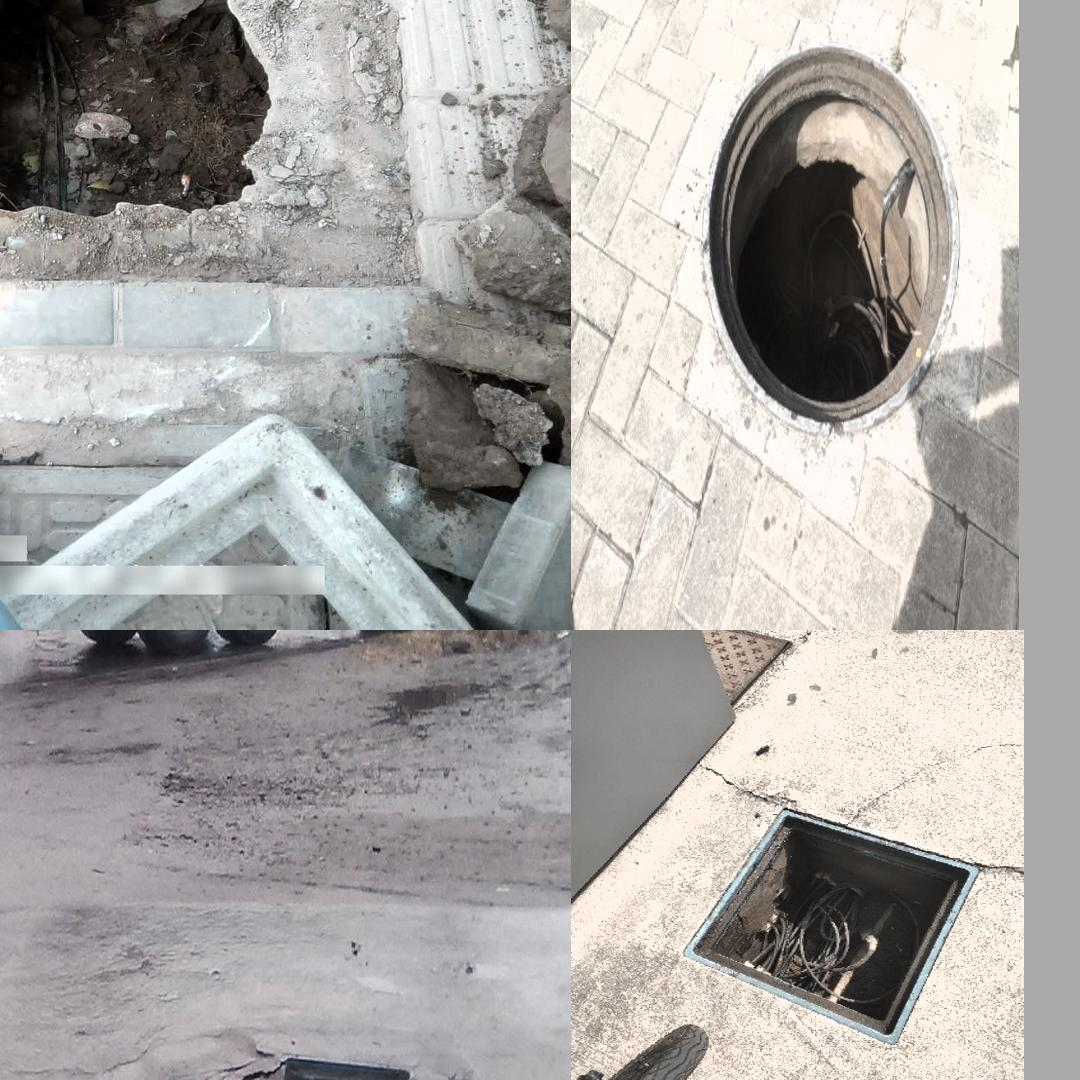lose: (0, 0, 427, 282), (701, 38, 963, 431), (683, 808, 981, 1047), (249, 1025, 409, 1080)
